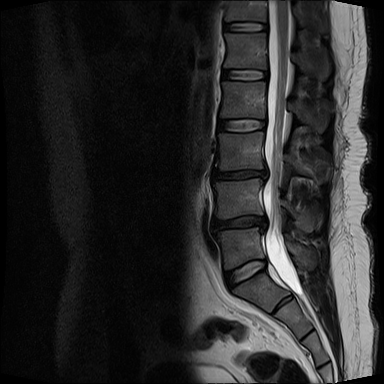Lumbar Disc Bulge LDB: (206, 207, 275, 238), (223, 258, 274, 292), (208, 164, 276, 188)
Normal IVD: (215, 114, 272, 137), (216, 64, 273, 85), (219, 18, 271, 36)
Spinal Stenosis SS: (251, 207, 272, 237), (254, 161, 274, 186), (258, 254, 274, 276)
Spondylolisthesis: (205, 245, 289, 313)
